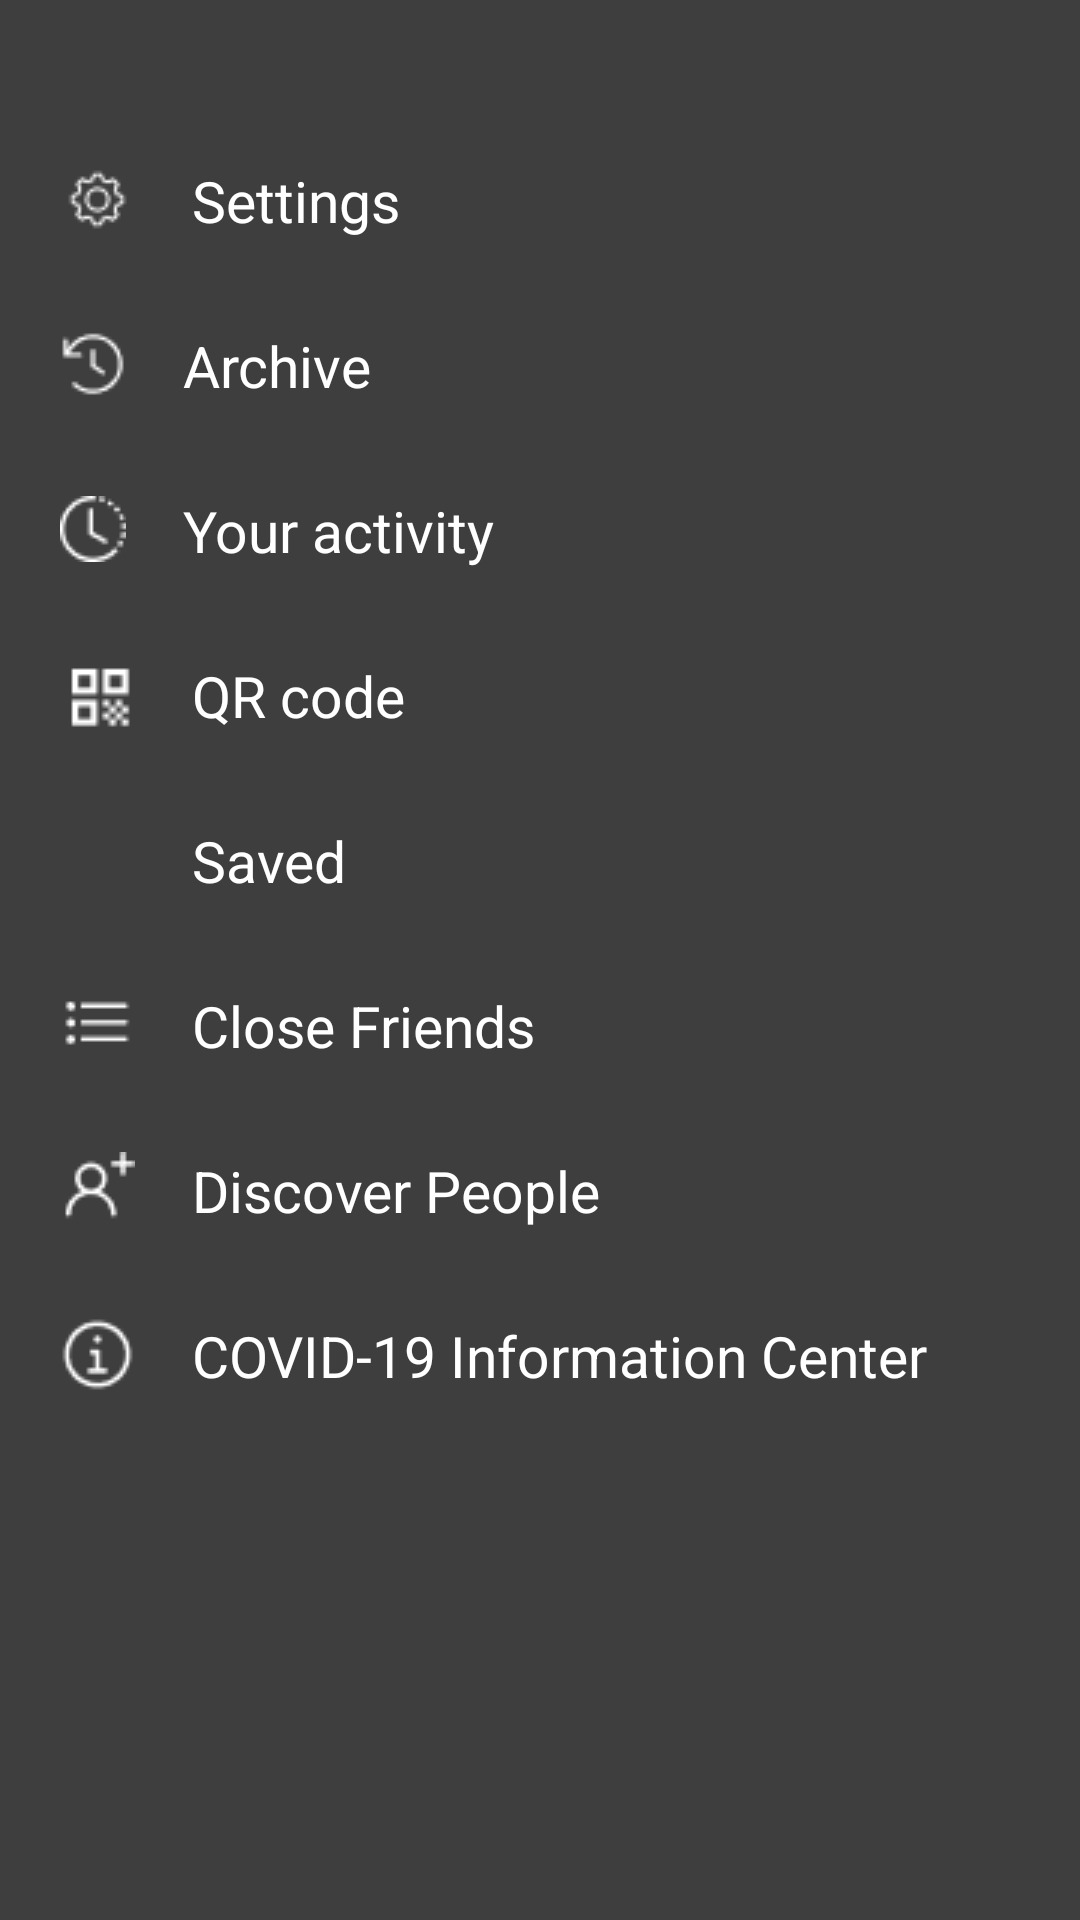

Where icons sit on this 1080px x 1920px app screen, as (x1,y1,x2,y2):
bullet list: (65,1001,129,1045)
person add: (65,1152,135,1218)
